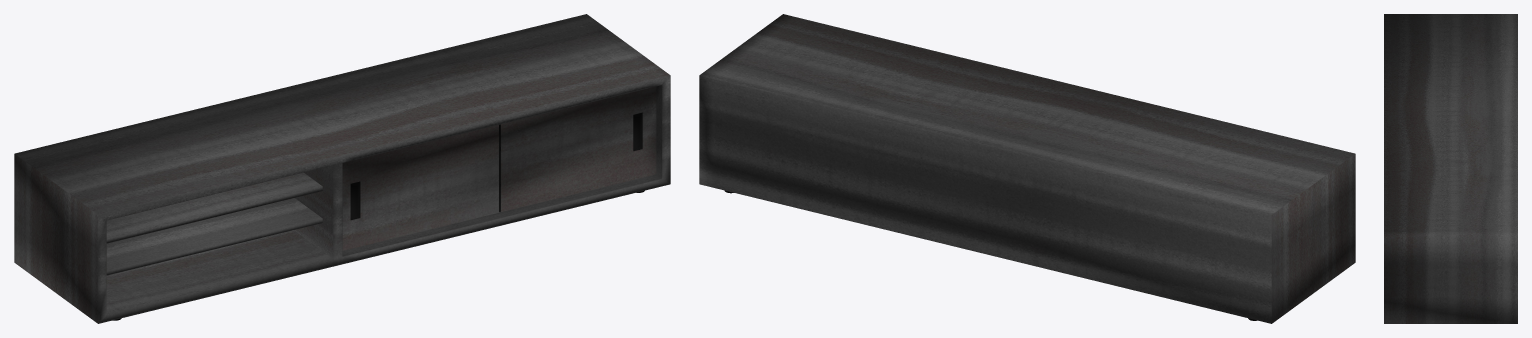
The model's file is tstand9.glb.
The picture shows the model from 3 angles, left to right: view 1: azimuth 30°, elevation 25°; view 2: azimuth 150°, elevation 25°; view 3: azimuth 270°, elevation 25°; orthographic projection. The views are drawn at different scales.
Parts seen in each view (by area): view 1: g; view 2: g; view 3: g.
Part boxes in pixels (x1,y1,x2,y2): g: (14, 14, 670, 323); g: (699, 14, 1355, 323); g: (1384, 14, 1517, 323).
Size of the model in its own units: 2 by 0.3822 by 0.507.
Materials: 1 (1 with a texture image).
